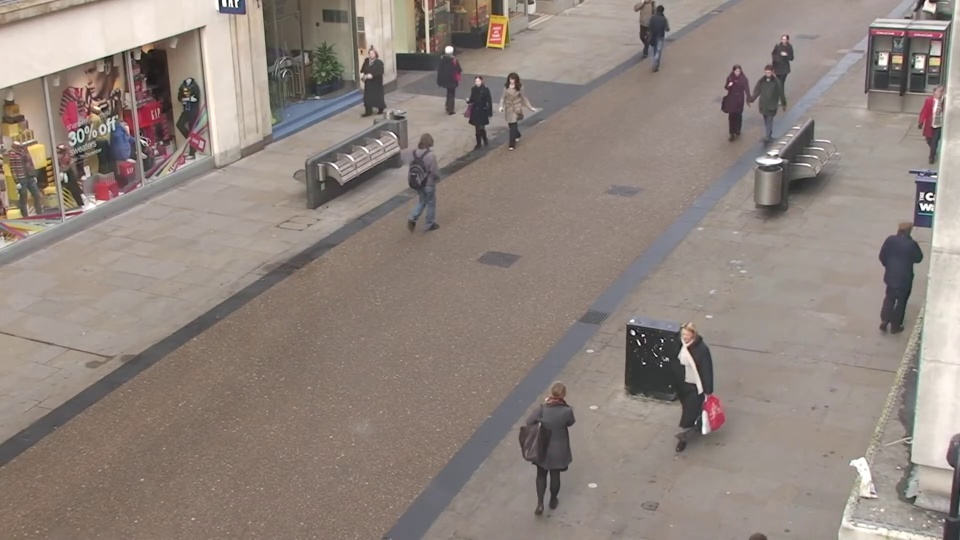pedestrian: (533, 367, 584, 526), (653, 317, 704, 466), (877, 208, 929, 330), (417, 127, 451, 226), (461, 76, 491, 161), (750, 65, 780, 148), (497, 70, 526, 153), (720, 63, 749, 144), (766, 37, 795, 112), (355, 49, 383, 125), (441, 40, 467, 115), (650, 2, 672, 66)
